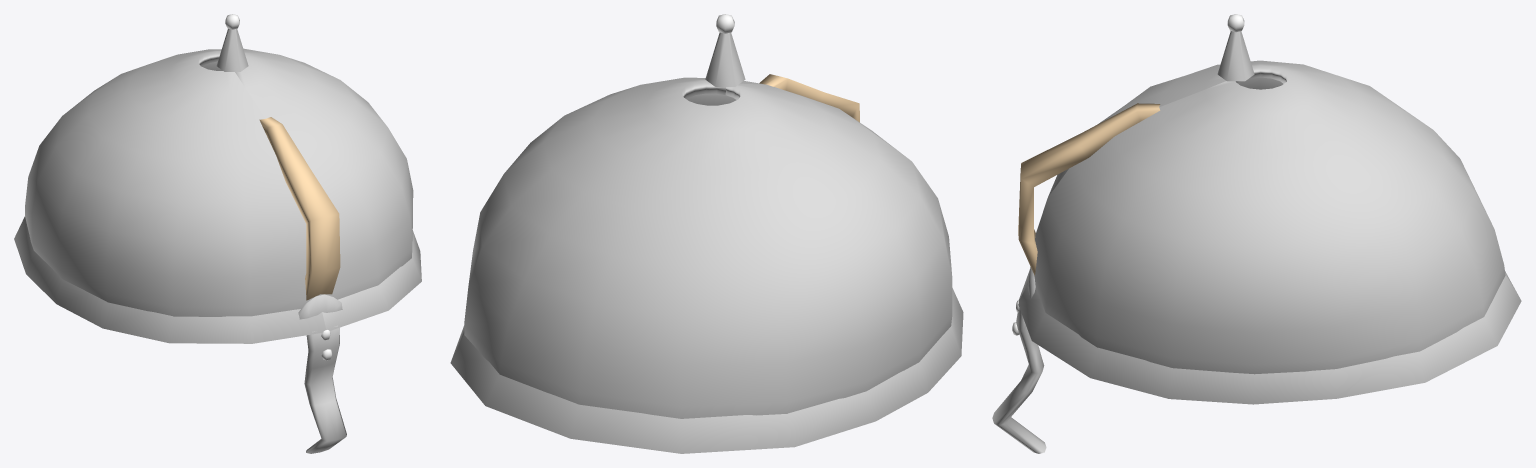
File: helm-berserker-nasal.glb
3 views of the same model, side by side, from view 1: azimuth 30°, elevation 25°; view 2: azimuth 150°, elevation 25°; view 3: azimuth 270°, elevation 25° (orthographic). The views are drawn at different scales.
Parts seen in each view (by area): view 1: helm-berserker-nasal; view 2: helm-berserker-nasal; view 3: helm-berserker-nasal.
Boxes of the visible parts, x1,y1,x2,y2 form: helm-berserker-nasal: (14,14,421,453); helm-berserker-nasal: (450,14,963,453); helm-berserker-nasal: (992,14,1521,453).
Size of the model in its own units: 0.2554 by 0.2702 by 0.2993.
